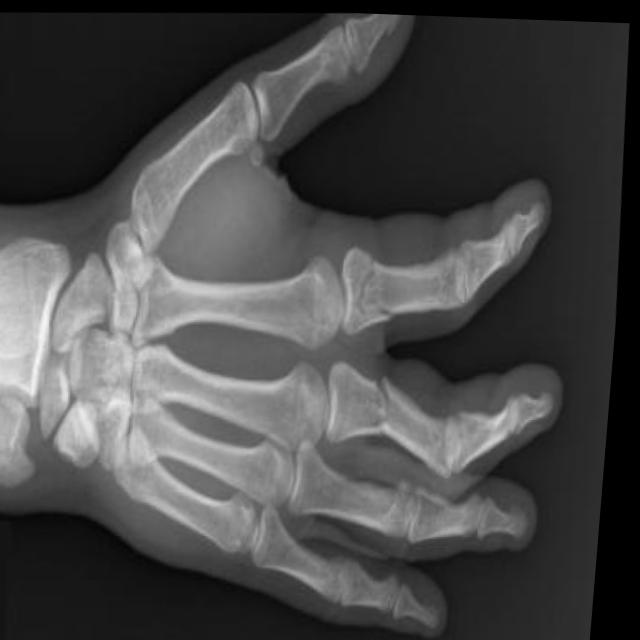fracture: (344, 224, 403, 333), (365, 352, 413, 450)
